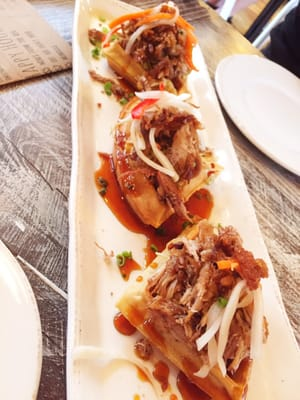soup: (116, 219, 268, 400)
